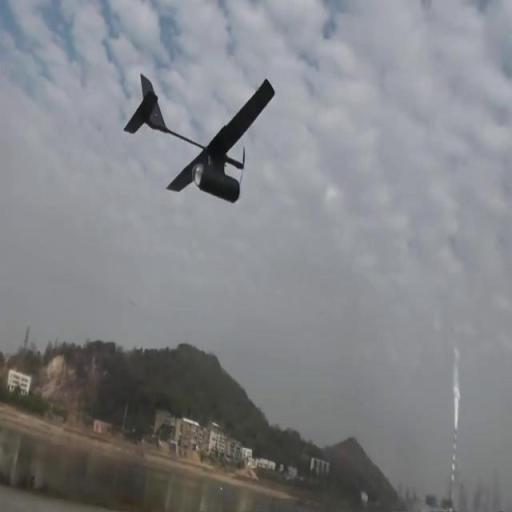uav: (124, 71, 274, 206)
